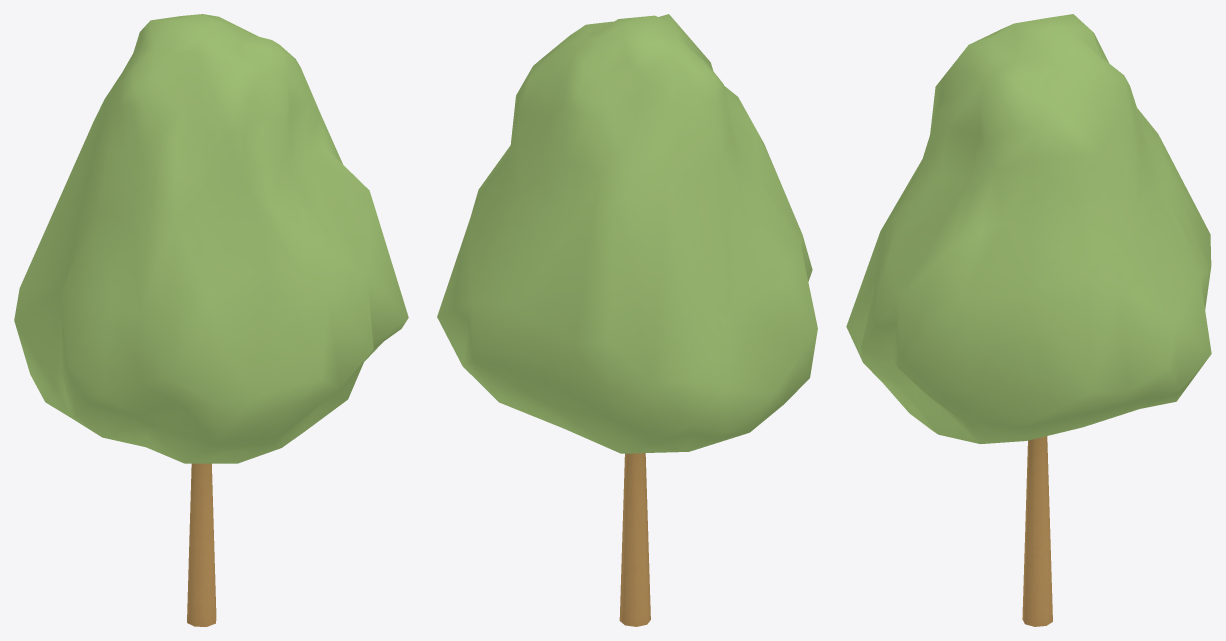
The picture shows the model from 3 angles, left to right: view 1: azimuth 30°, elevation 25°; view 2: azimuth 150°, elevation 25°; view 3: azimuth 270°, elevation 25°; orthographic projection.
Parts seen in each view (by area): view 1: List; view 2: List; view 3: List.
Boxes of the visible parts, x1,y1,x2,y2 form: List: (14,14,408,626); List: (437,14,817,626); List: (846,14,1211,626).
Size of the model in its own units: 9.29 by 16.88 by 9.4.
1 material, 1 textured.
